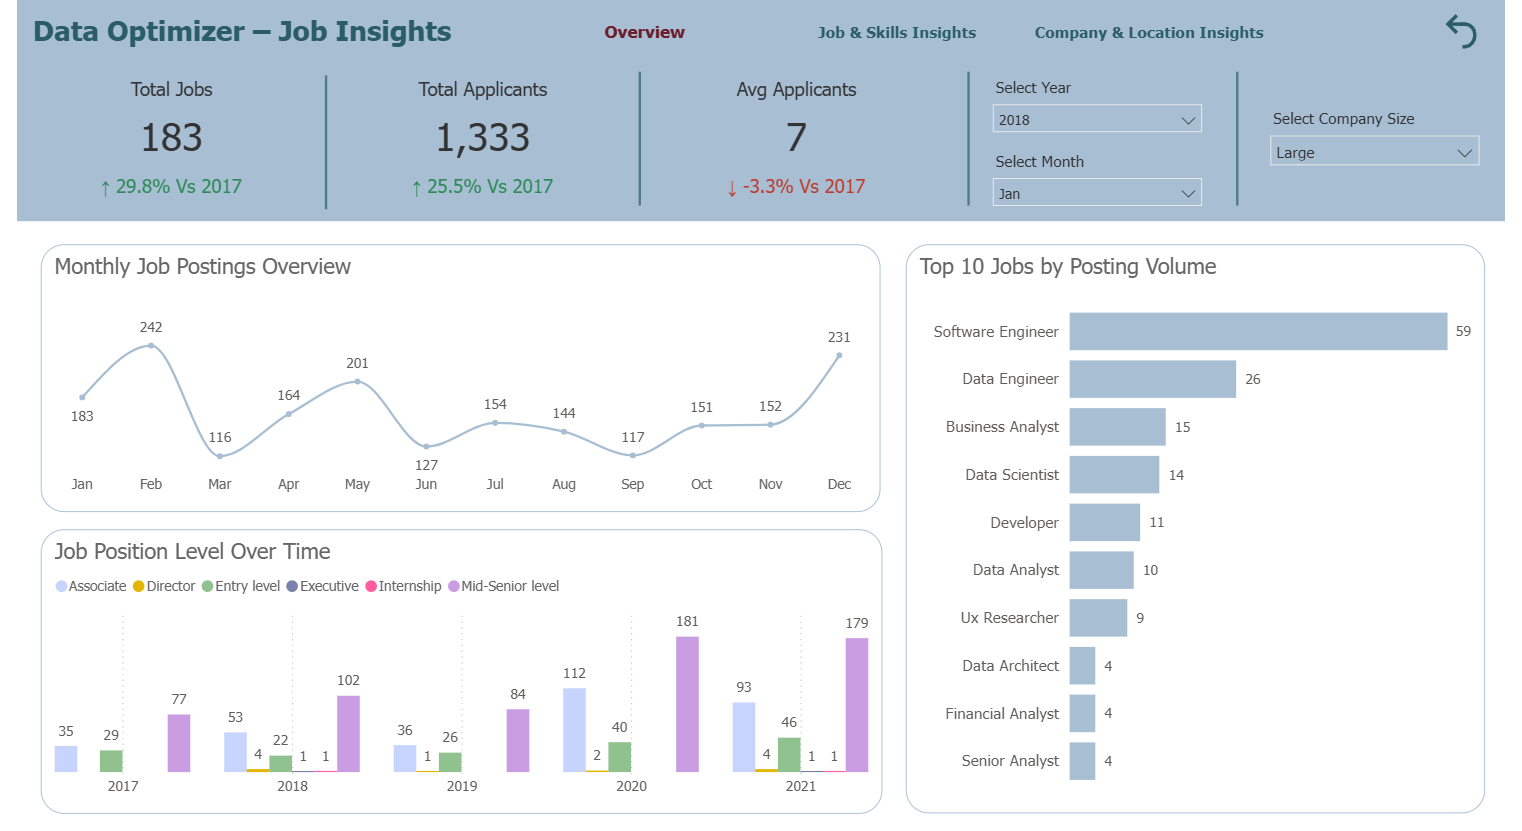

Layout of this report page (visuals, bound fields, positions):
{"tool":"powerbi","page":{"name":"Overview","canvas":[1280,720],"ordinal":0},"visuals":[{"type":"shape","box":[0,0,1280,192],"z":0},{"type":"shape","box":[8.6,63.6,248.2,120],"z":0,"group":"g1"},{"type":"shape","box":[276.4,63.6,248.2,120],"z":0,"group":"g2"},{"type":"shape","box":[546.6,63.6,248.2,120],"z":0,"group":"g3"},{"type":"textbox","box":[8.4,8.4,392.1,39.8],"z":1000},{"type":"textbox","box":[20.8,63.6,225,30],"z":1000,"group":"g1"},{"type":"textbox","box":[288.6,63.6,225,30],"z":1000,"group":"g2"},{"type":"textbox","box":[558.8,63.6,225,30],"z":1000,"group":"g3"},{"type":"slicer","fields":{"Values":["DimDate.Year"]},"box":[829.1,63.6,200.5,55],"z":2000},{"type":"card","fields":{"Values":["_measure.Total Job Posting"]},"box":[20.7,93.5,225,51.4],"z":2000,"group":"g1"},{"type":"card","fields":{"Values":["_measure.Total Applicants"]},"box":[288.5,93.5,225,51.4],"z":2000,"group":"g2"},{"type":"card","fields":{"Values":["_measure.Avg Applicant Per Job"]},"box":[558.7,93.5,225,51.4],"z":2000,"group":"g3"},{"type":"group","id":"g1","title":"Group 1","box":[8.6,63.6,268.3,120.8],"z":3000},{"type":"card","fields":{"Values":["_measure.Job Posting YoY"]},"box":[20.7,144.4,225,40],"z":3000,"group":"g1"},{"type":"card","fields":{"Values":["_measure.Applicants YoY"]},"box":[288.5,144.4,225,40],"z":3000,"group":"g2"},{"type":"card","fields":{"Values":["_measure.Avg Applicant Per Job YoY"]},"box":[558.7,144.4,225,40],"z":3000,"group":"g3"},{"type":"group","id":"g2","title":"Group 1","box":[276.4,63.6,248.2,120.8],"z":4000},{"type":"shape","box":[254.9,67,22,115],"z":4000,"group":"g1"},{"type":"group","id":"g3","title":"Group 1","box":[546.6,63.6,248.2,120.8],"z":5000},{"type":"shape","box":[524.6,63.6,22,115],"z":6000},{"type":"shape","box":[807.1,63.6,22,115],"z":7000},{"type":"slicer","fields":{"Values":["DimDate.Month Name"]},"box":[829.2,126.5,200.5,55],"z":8000},{"type":"shape","box":[1038.2,63.6,22,115],"z":9000},{"type":"slicer","fields":{"Values":["JobPosting.Company Size Group"]},"box":[1067.7,90.5,200.3,54.3],"z":11000},{"type":"lineChart","title":"Monthly Job Postings Overview","fields":{"Y":["_measure.Total Job Posting"],"Category":["DimDate.Month Name"]},"box":[20.5,212.3,722.7,230.4],"z":12000},{"type":"clusteredBarChart","title":"Top 10 Jobs by Posting Volume","fields":{"Category":["JobPosting.Job Title"],"Y":["_measure.Total Job Posting"]},"box":[764.9,212.3,498.3,489.8],"z":13000},{"type":"clusteredColumnChart","title":"Job Position Level Over Time","fields":{"Category":["DimDate.Year"],"Y":["_measure.Total Job Posting"],"Series":["JobPosting.Job Position Level"]},"box":[20.5,457.2,723.9,244.9],"z":14000},{"type":"pageNavigator","box":[436.7,15.7,641.8,25.3],"z":15000},{"type":"actionButton","box":[1222.1,8.4,45.8,39.8],"z":16000}]}

Visuals, with their boxes on the page's 1280x720 design canvas (x1, y1, x2, y2). These are canvas units, not pixel positions in the 1522x831 screenshot, which may show the page scaled, cropped or inside an application window:
shape: detection(0, 0, 1280, 192)
shape: detection(9, 64, 257, 184)
shape: detection(276, 64, 525, 184)
shape: detection(547, 64, 795, 184)
textbox: detection(8, 8, 400, 48)
textbox: detection(21, 64, 246, 94)
textbox: detection(289, 64, 514, 94)
textbox: detection(559, 64, 784, 94)
slicer - DimDate.Year: detection(829, 64, 1030, 119)
card - _measure.Total Job Posting: detection(21, 94, 246, 145)
card - _measure.Total Applicants: detection(288, 94, 514, 145)
card - _measure.Avg Applicant Per Job: detection(559, 94, 784, 145)
"Group 1" group: detection(9, 64, 277, 184)
card - _measure.Job Posting YoY: detection(21, 144, 246, 184)
card - _measure.Applicants YoY: detection(288, 144, 514, 184)
card - _measure.Avg Applicant Per Job YoY: detection(559, 144, 784, 184)
"Group 1" group: detection(276, 64, 525, 184)
shape: detection(255, 67, 277, 182)
"Group 1" group: detection(547, 64, 795, 184)
shape: detection(525, 64, 547, 179)
shape: detection(807, 64, 829, 179)
slicer - DimDate.Month Name: detection(829, 126, 1030, 182)
shape: detection(1038, 64, 1060, 179)
slicer - JobPosting.Company Size Group: detection(1068, 90, 1268, 145)
"Monthly Job Postings Overview" lineChart: detection(20, 212, 743, 443)
"Top 10 Jobs by Posting Volume" clusteredBarChart: detection(765, 212, 1263, 702)
"Job Position Level Over Time" clusteredColumnChart: detection(20, 457, 744, 702)
pageNavigator: detection(437, 16, 1078, 41)
actionButton: detection(1222, 8, 1268, 48)
